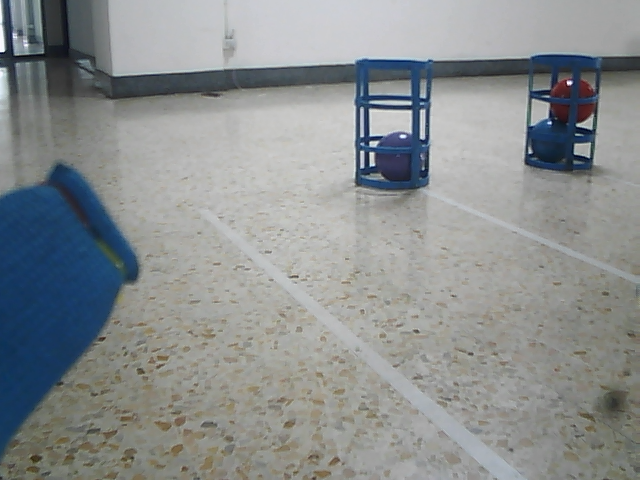Blue ball: (530, 117, 574, 161)
Cyro: (351, 56, 436, 191), (522, 51, 603, 175)
Purple ball: (374, 130, 421, 180)
Red ball: (550, 77, 596, 123)
